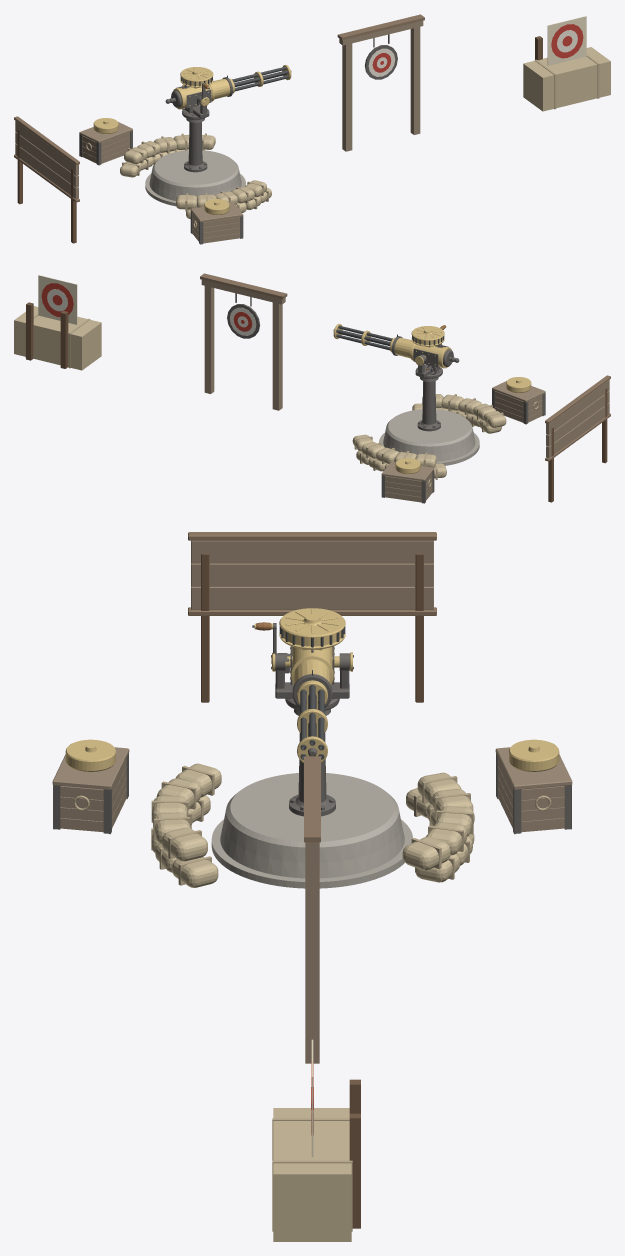
Rendered from gatling_post.glb.
3 views of the same model, one above another, from view 1: azimuth 30°, elevation 25°; view 2: azimuth 150°, elevation 25°; view 3: azimuth 270°, elevation 25° (orthographic). The views are drawn at different scales.
Visible parts, largest first — view 1: Gatling_Post_geo, Range_Bale_geo, Range_Plate_geo, Gat_Pitch_geo, Range_Swing_geo, Gat_Barrels_geo, Gat_Yaw_geo; view 2: Gatling_Post_geo, Range_Bale_geo, Range_Plate_geo, Gat_Pitch_geo, Range_Swing_geo, Gat_Barrels_geo, Gat_Yaw_geo; view 3: Gatling_Post_geo, Range_Bale_geo, Range_Plate_geo, Gat_Pitch_geo, Gat_Barrels_geo, Gat_Yaw_geo.
Boxes of the visible parts, <box> form: Gatling_Post_geo: <box>14,116,271,244</box>; Range_Bale_geo: <box>523,16,610,111</box>; Range_Plate_geo: <box>337,14,424,151</box>; Gat_Pitch_geo: <box>165,67,232,109</box>; Range_Swing_geo: <box>365,34,397,79</box>; Gat_Barrels_geo: <box>229,65,291,93</box>; Gat_Yaw_geo: <box>182,84,209,119</box>; Gatling_Post_geo: <box>352,375,610,503</box>; Range_Bale_geo: <box>14,275,101,370</box>; Range_Plate_geo: <box>200,273,287,410</box>; Gat_Pitch_geo: <box>392,326,459,368</box>; Range_Swing_geo: <box>227,293,259,338</box>; Gat_Barrels_geo: <box>333,324,395,352</box>; Gat_Yaw_geo: <box>415,344,442,378</box>; Gatling_Post_geo: <box>52,532,572,888</box>; Range_Bale_geo: <box>272,1039,360,1241</box>; Range_Plate_geo: <box>304,756,320,1063</box>; Gat_Pitch_geo: <box>279,608,345,707</box>; Gat_Barrels_geo: <box>297,680,327,762</box>; Gat_Yaw_geo: <box>271,652,353,710</box>.
Size of the model in its own units: 8.98 by 1.79 by 3.64.
